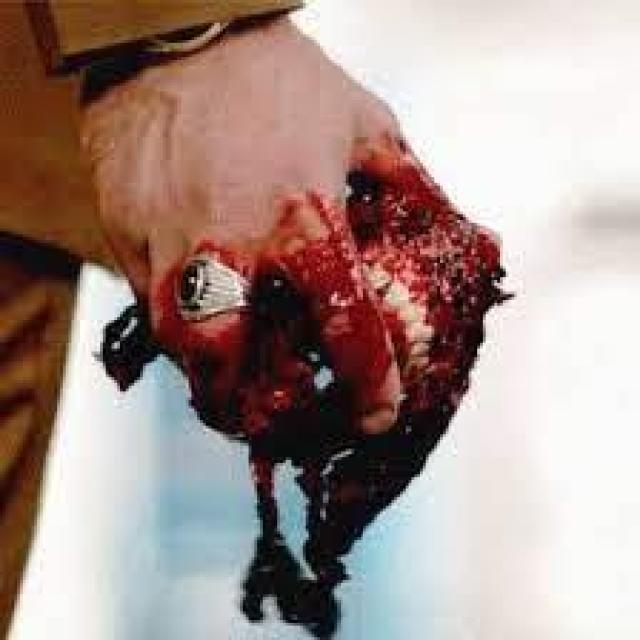flood: (113, 158, 490, 468)
